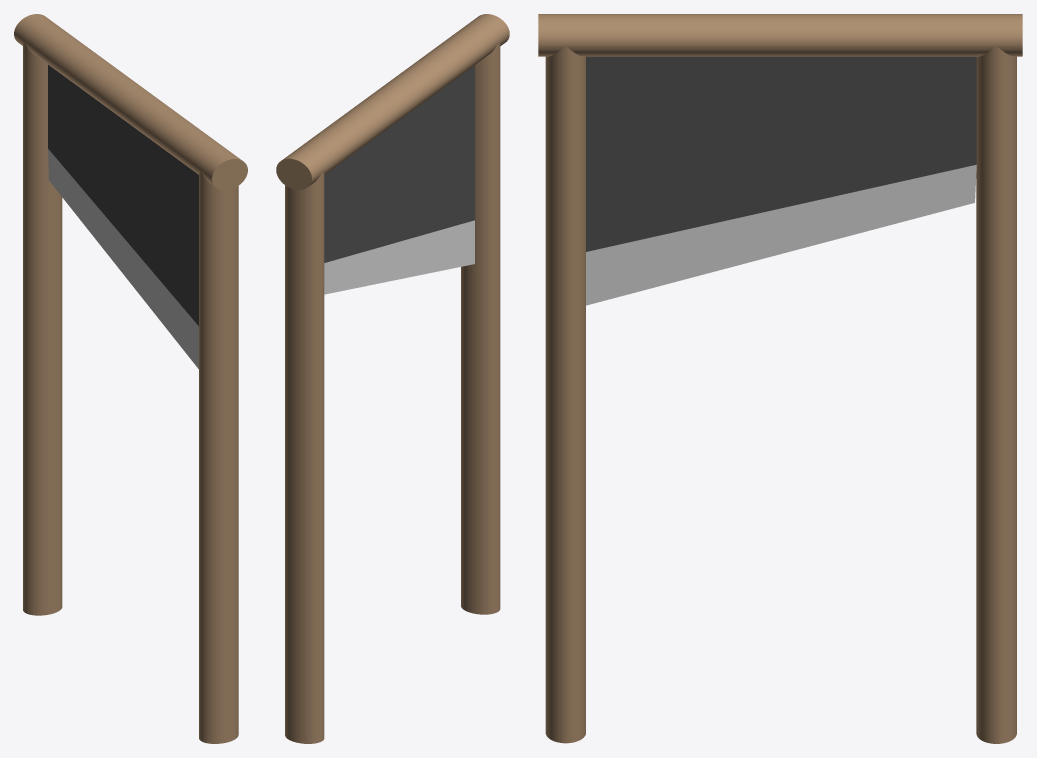
File: Giyotin.fbx
3 renders of one model, left to right at view 1: azimuth 30°, elevation 25°; view 2: azimuth 150°, elevation 25°; view 3: azimuth 270°, elevation 25°, orthographic. The views are drawn at different scales.
Parts seen in each view (by area): view 1: Cube, Cylinder, Cylinder.001, Cylinder.002; view 2: Cube, Cylinder.001, Cylinder, Cylinder.002; view 3: Cube, Cylinder.001, Cylinder, Cylinder.002.
Part boxes in pixels (left/top/right/bottom): Cube: left=48, top=64, right=198, bottom=368; Cylinder: left=199, top=171, right=238, bottom=743; Cylinder.001: left=23, top=41, right=62, bottom=615; Cylinder.002: left=14, top=14, right=247, bottom=190; Cube: left=324, top=65, right=474, bottom=294; Cylinder.001: left=285, top=170, right=324, bottom=743; Cylinder: left=461, top=42, right=500, bottom=614; Cylinder.002: left=276, top=14, right=509, bottom=189; Cube: left=586, top=56, right=976, bottom=305; Cylinder.001: left=976, top=45, right=1016, bottom=743; Cylinder: left=545, top=46, right=585, bottom=743; Cylinder.002: left=538, top=14, right=1022, bottom=56.
Bounding box in the file's own units: 65.92 × 1028 × 630.
